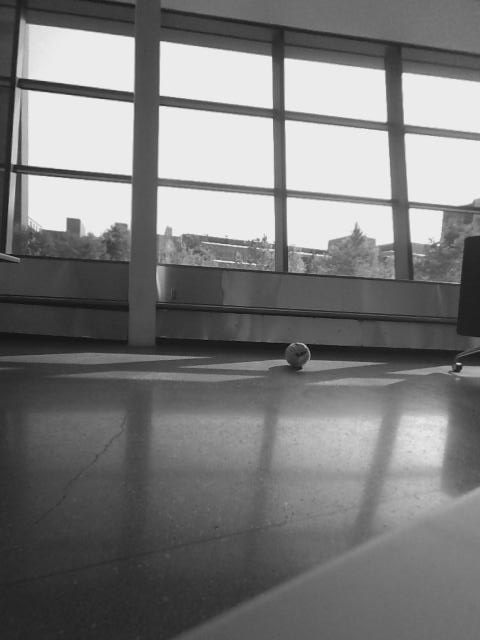ball: (282, 340, 313, 372)
